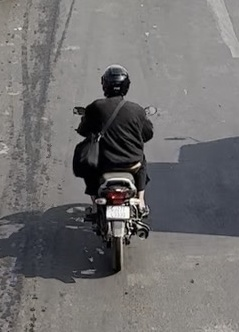BikeWithRider: (66, 62, 162, 277)
Helmet: (96, 63, 136, 101)
